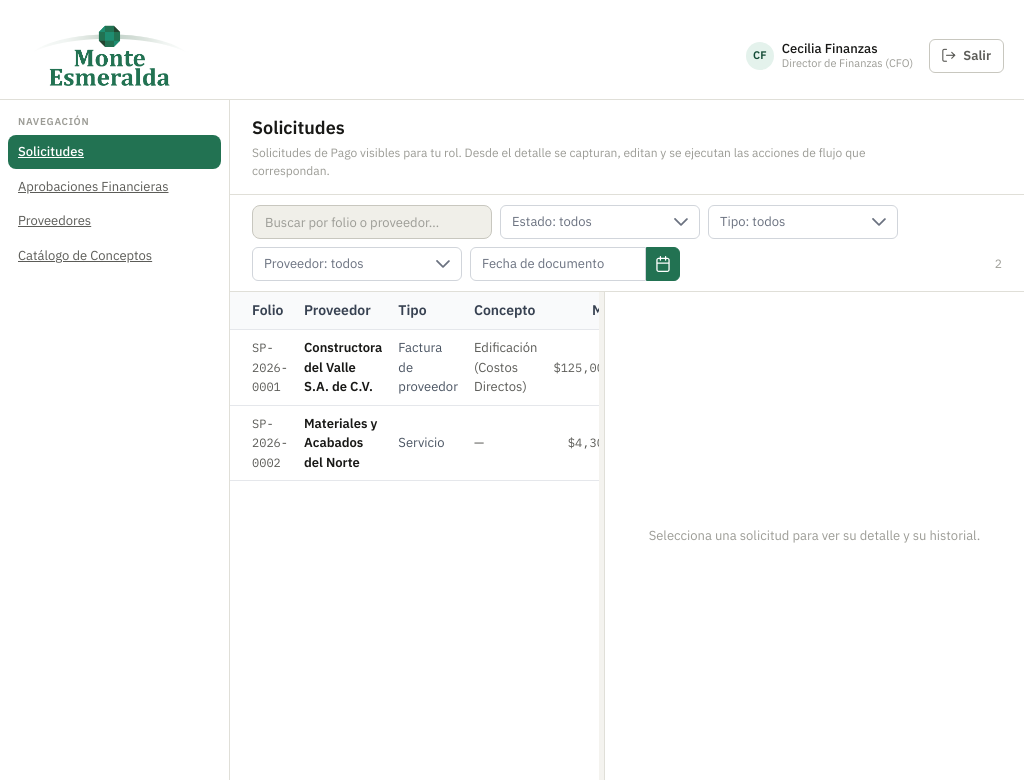
seleccionar una fila abre el detalle con su badge de estado
Expected: the text "Selecciona una solicitud para ver su detalle y su historial." is shown, [649,526,980,546]
Click the text "SP-2026-0001" at x=263, y=348, box [252,340,288,394]
(page scrolled)
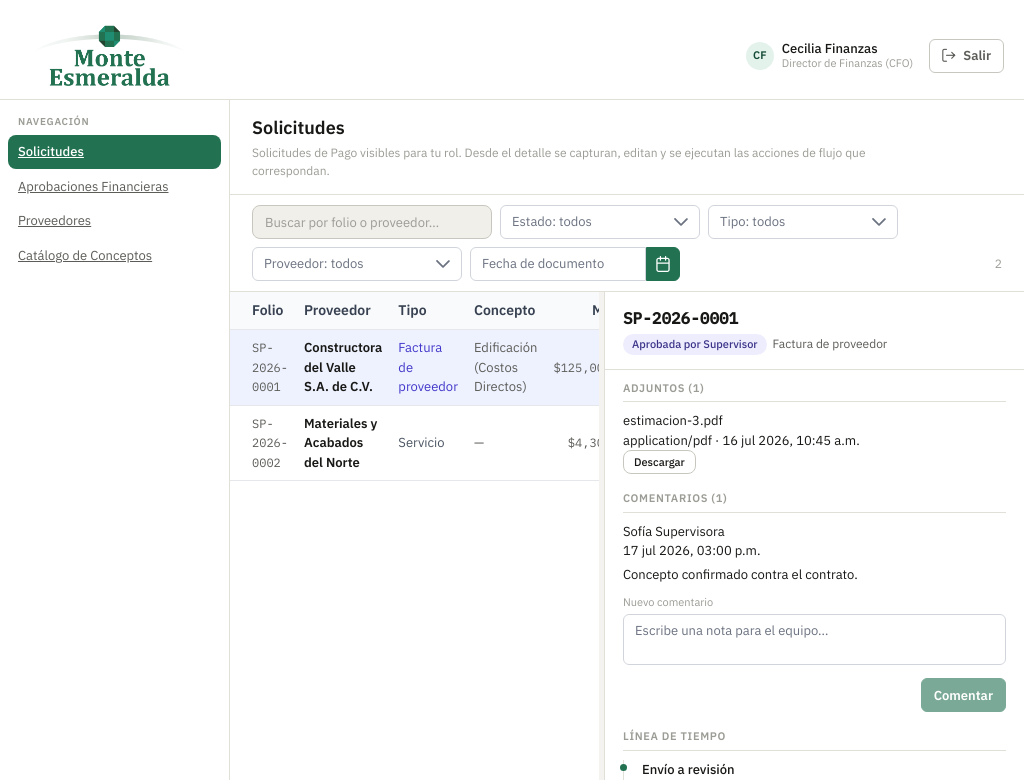
Expected: the text "Aprobada por Supervisor" is shown, [623,334,767,354]
Expected: the text "estimacion-3.pdf" is shown, [623,412,723,429]
Expected: the text "Concepto confirmado contra el contrato." is shown, [623,566,858,582]
